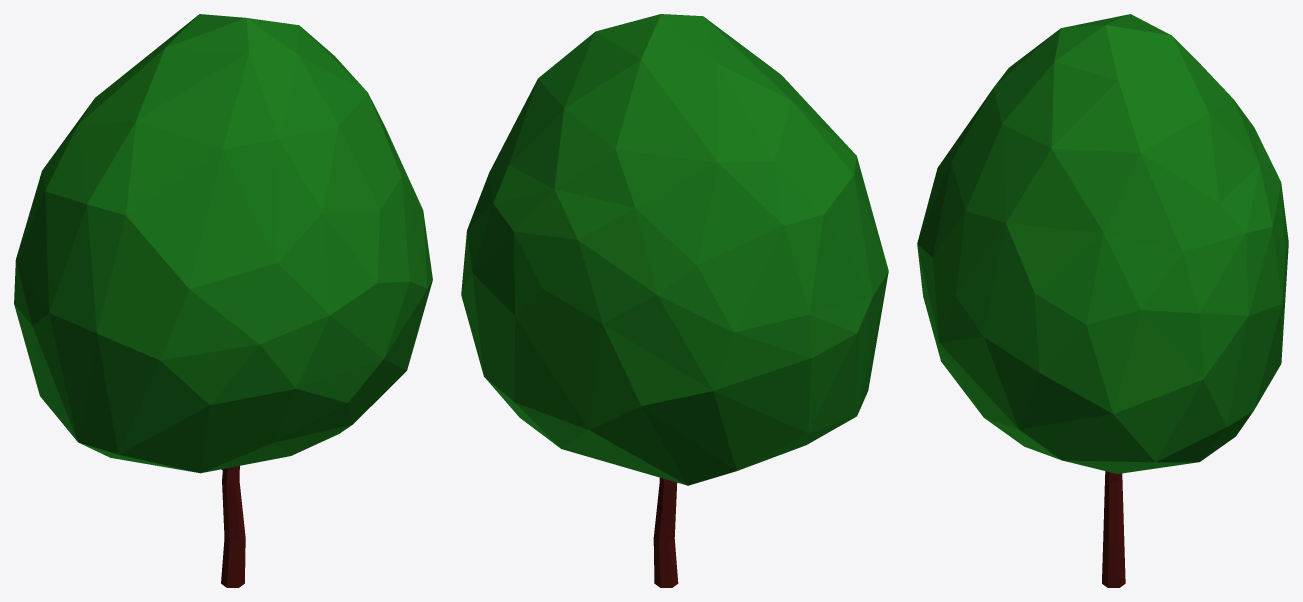
The model's file is Tree_Maple_flat.gltf.
The picture shows the model from 3 angles, left to right: view 1: azimuth 30°, elevation 25°; view 2: azimuth 150°, elevation 25°; view 3: azimuth 270°, elevation 25°; orthographic projection.
Parts seen in each view (by area): view 1: Tree_Maple_flat; view 2: Tree_Maple_flat; view 3: Tree_Maple_flat.
Boxes of the visible parts, <box> form: Tree_Maple_flat: <box>14,14,432,587</box>; Tree_Maple_flat: <box>461,14,888,587</box>; Tree_Maple_flat: <box>917,14,1288,587</box>.
Bounding box in the file's own units: 8.74 × 12.41 × 7.42.
2 materials, 2 textured.
